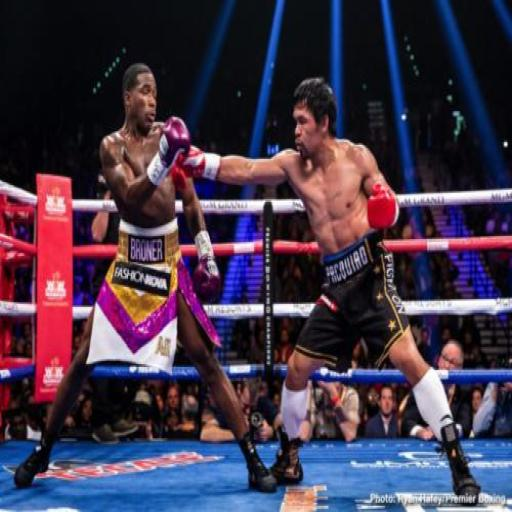boxing: (161, 74, 482, 507), (12, 62, 278, 495)
